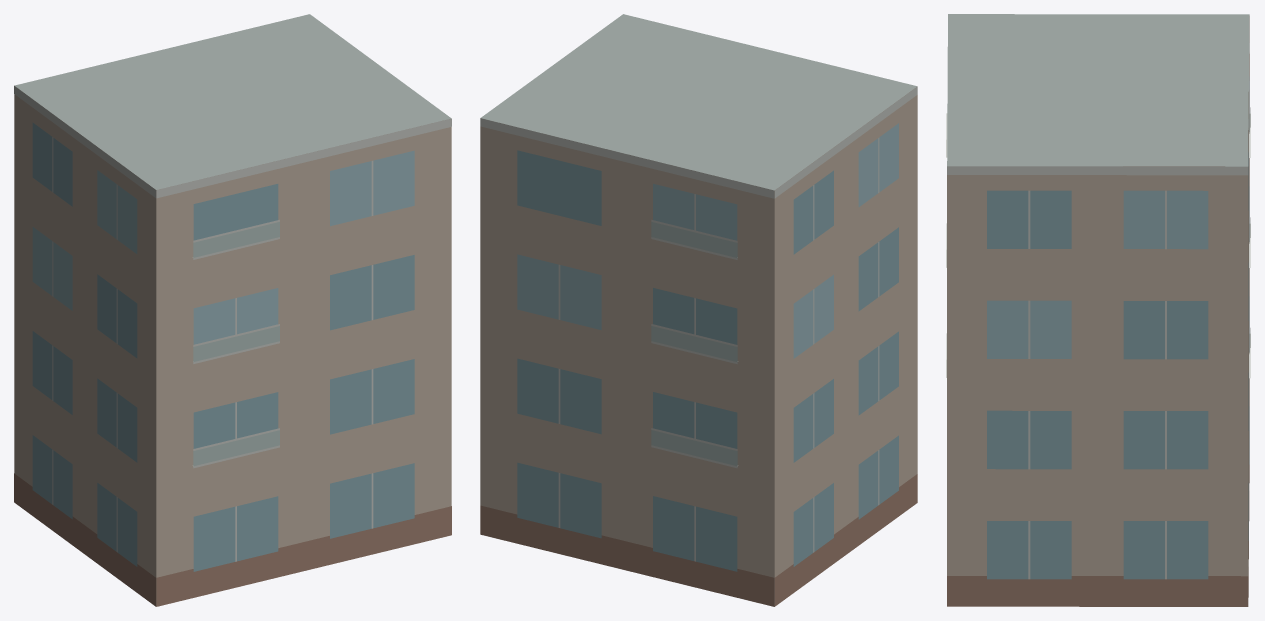
Rendered from residential-14fba8e2-8708-4d9f-82fd-cceb93af7cff.glb.
3 renders of one model, left to right at view 1: azimuth 30°, elevation 25°; view 2: azimuth 150°, elevation 25°; view 3: azimuth 270°, elevation 25°, orthographic. The views are drawn at different scales.
Parts seen in each view (by area): view 1: residential-14fba8e2-8708-4d9f-82fd-cceb93af7cff.tmp; view 2: residential-14fba8e2-8708-4d9f-82fd-cceb93af7cff.tmp; view 3: residential-14fba8e2-8708-4d9f-82fd-cceb93af7cff.tmp.
Boxes of the visible parts, x1,y1,x2,y2 form: residential-14fba8e2-8708-4d9f-82fd-cceb93af7cff.tmp: (14, 14, 451, 606); residential-14fba8e2-8708-4d9f-82fd-cceb93af7cff.tmp: (480, 14, 917, 606); residential-14fba8e2-8708-4d9f-82fd-cceb93af7cff.tmp: (946, 14, 1250, 606).
Size of the model in its own units: 9.07 by 12.2 by 7.65.
